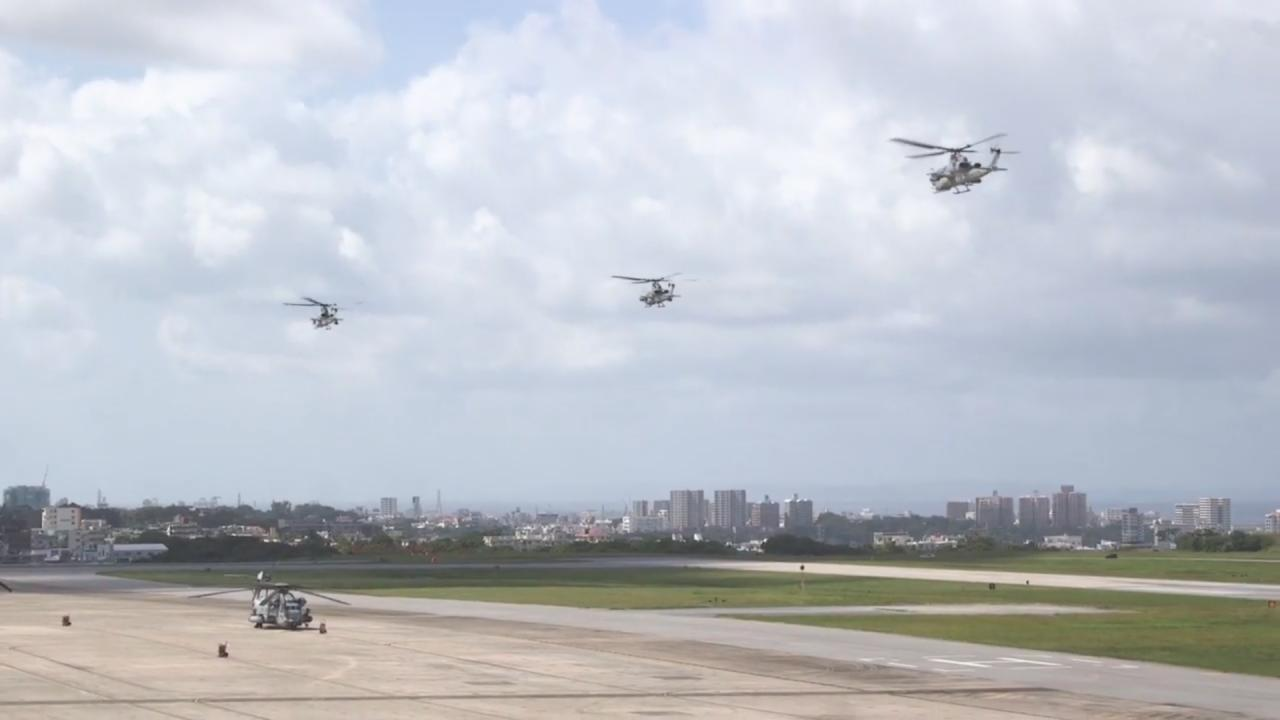Helicopter: (872, 108, 1040, 222), (265, 273, 377, 350), (597, 254, 712, 327)
